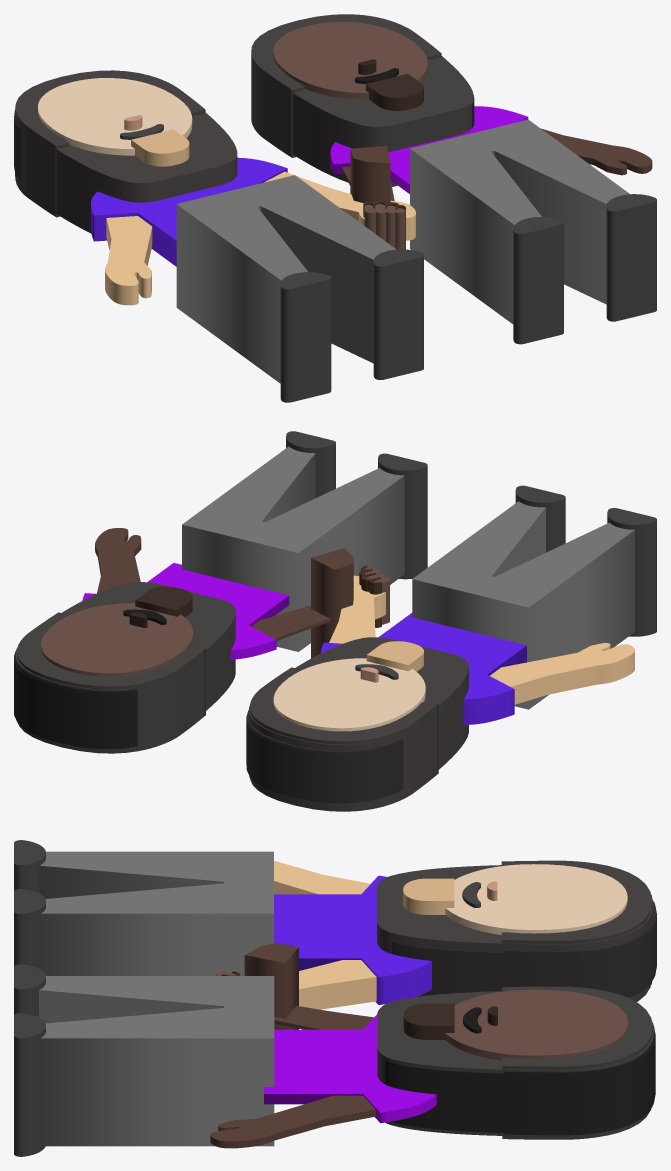
File: emoji_u1f469_1f3fb_200d_1f91d_200d_1f469_1f3ff.glb
The picture shows the model from 3 angles, top to bottom: view 1: azimuth 30°, elevation 25°; view 2: azimuth 150°, elevation 25°; view 3: azimuth 270°, elevation 25°; orthographic projection. The views are drawn at different scales.
Parts seen in each view (by area): view 1: emoji_u1f469_1f3fb_200d_1f91d_200d_1f469_1f3ff; view 2: emoji_u1f469_1f3fb_200d_1f91d_200d_1f469_1f3ff; view 3: emoji_u1f469_1f3fb_200d_1f91d_200d_1f469_1f3ff.
Part boxes in pixels (box(x1,y1,x2,y2)): emoji_u1f469_1f3fb_200d_1f91d_200d_1f469_1f3ff: box(14, 14, 656, 402); emoji_u1f469_1f3fb_200d_1f91d_200d_1f469_1f3ff: box(14, 431, 656, 811); emoji_u1f469_1f3fb_200d_1f91d_200d_1f469_1f3ff: box(14, 840, 656, 1156).
Bounding box in the file's own units: 0.0346 × 0.007 × 0.0334.
